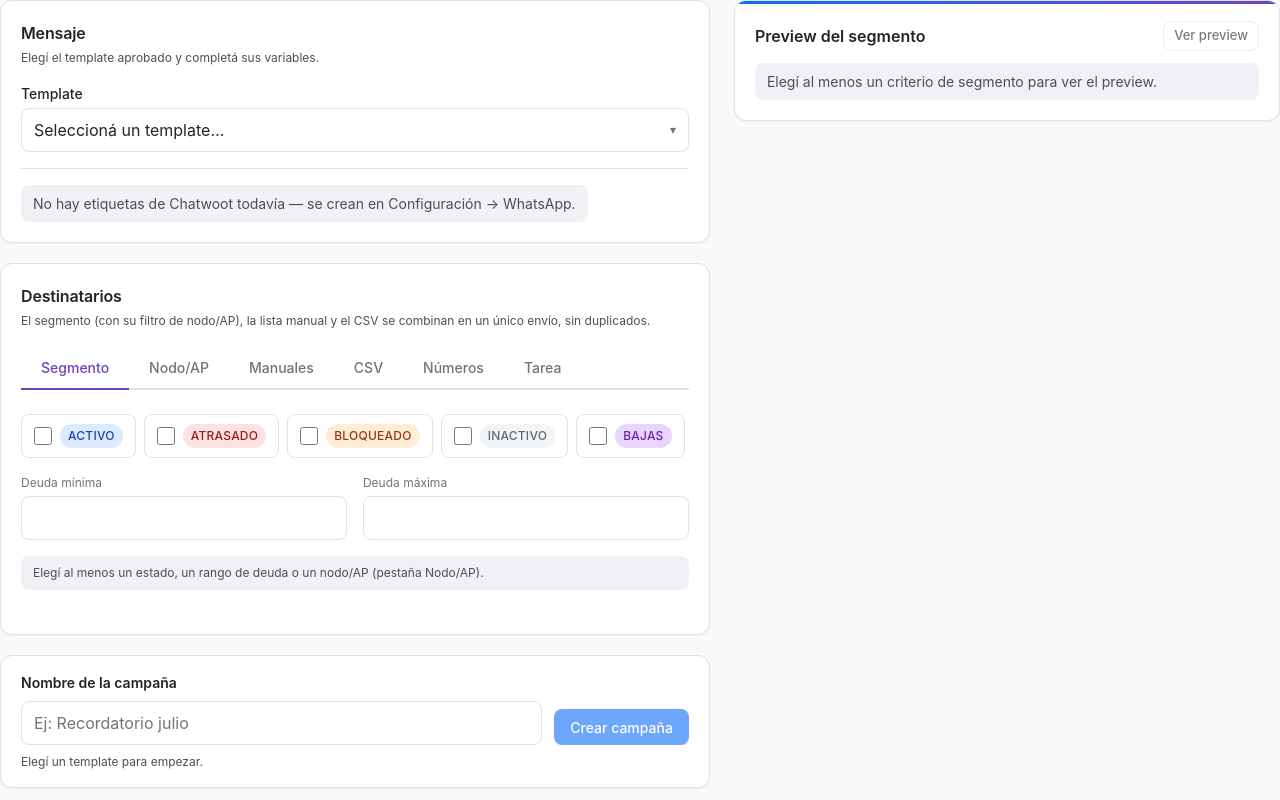
Test case: TAB-3: contador-chip en el label del tab cuando su origen tiene algo cargado › L1: una deuda de $0 NO cuenta como filtro (mismo criterio efectivo que el gate/hint)
Type "0" into the number field labelled "Deuda mínima" at (184, 518), box x1=21 y1=496 x2=347 y2=540
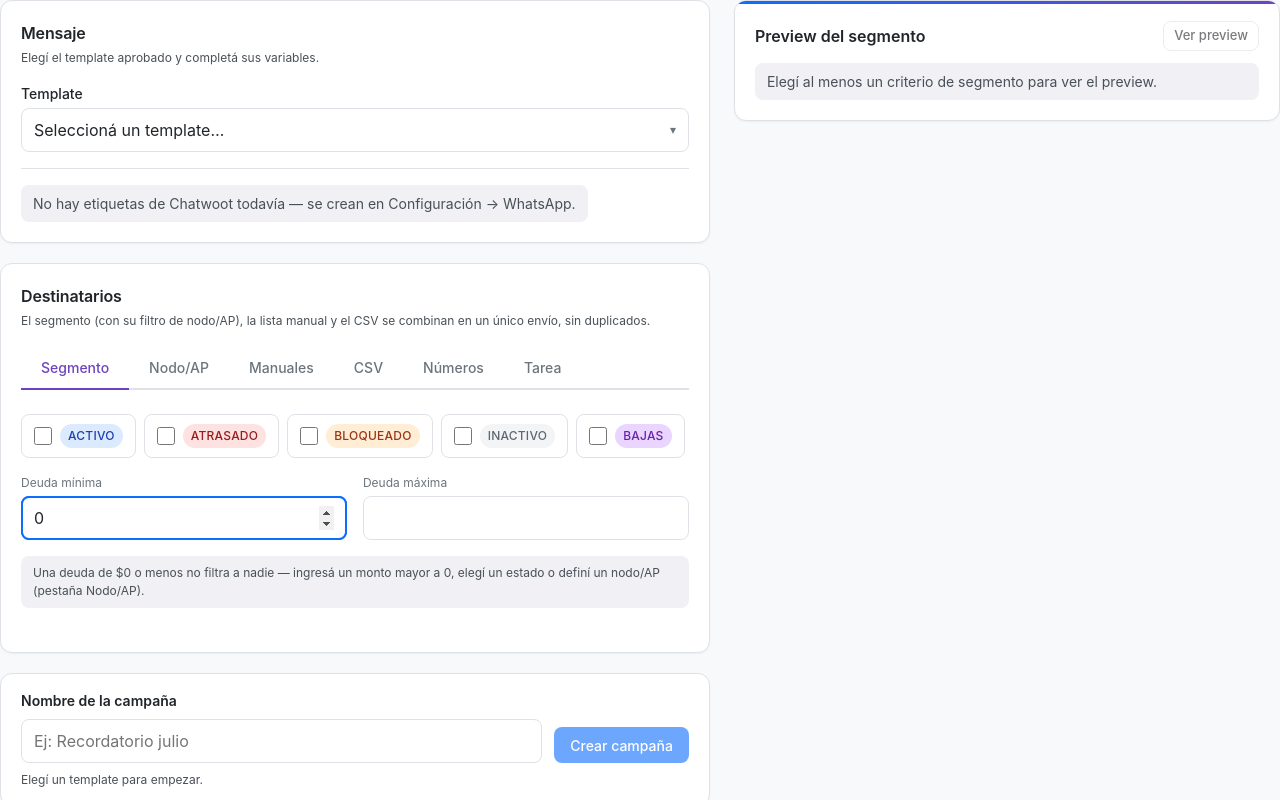
Replace the text in the number field labelled "Deuda mínima" with "100" at (184, 518), box x1=21 y1=496 x2=347 y2=540
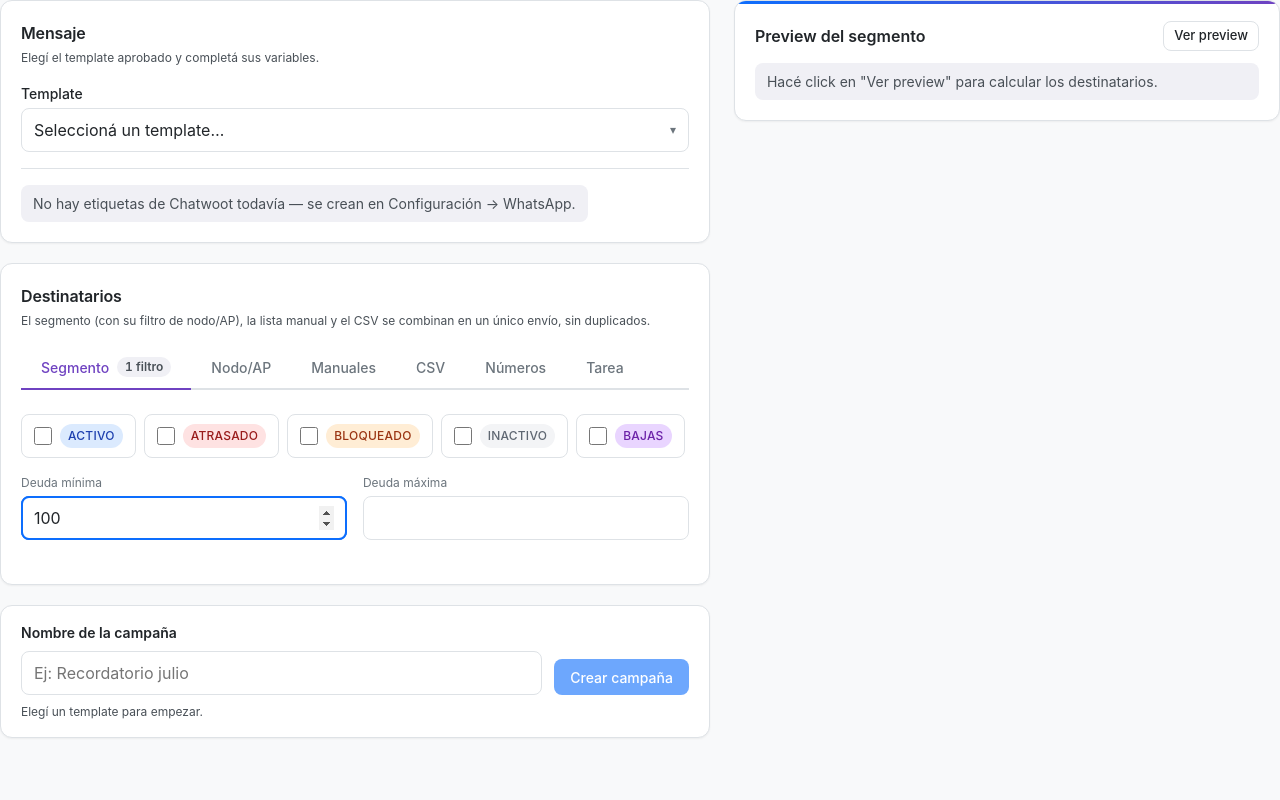
expect the tab "Segmento 1 filtro" is shown: met, box x1=21 y1=346 x2=191 y2=390
